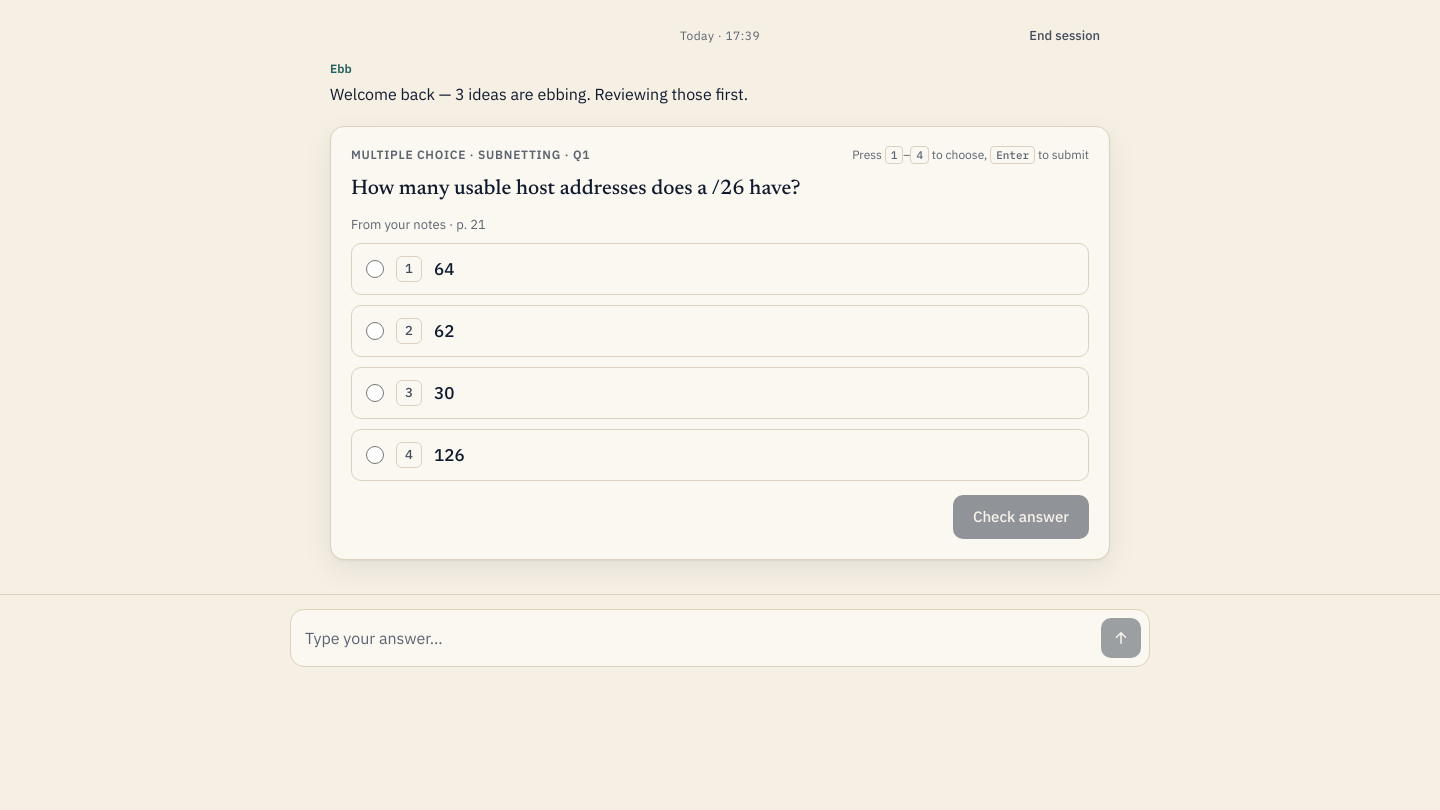
Test case: Thread › keeps an MCQ answer locked in its card, and Retry re-sends the same attempt
This screenshot has width=1440, height=810.
Type keys "2{Enter}"
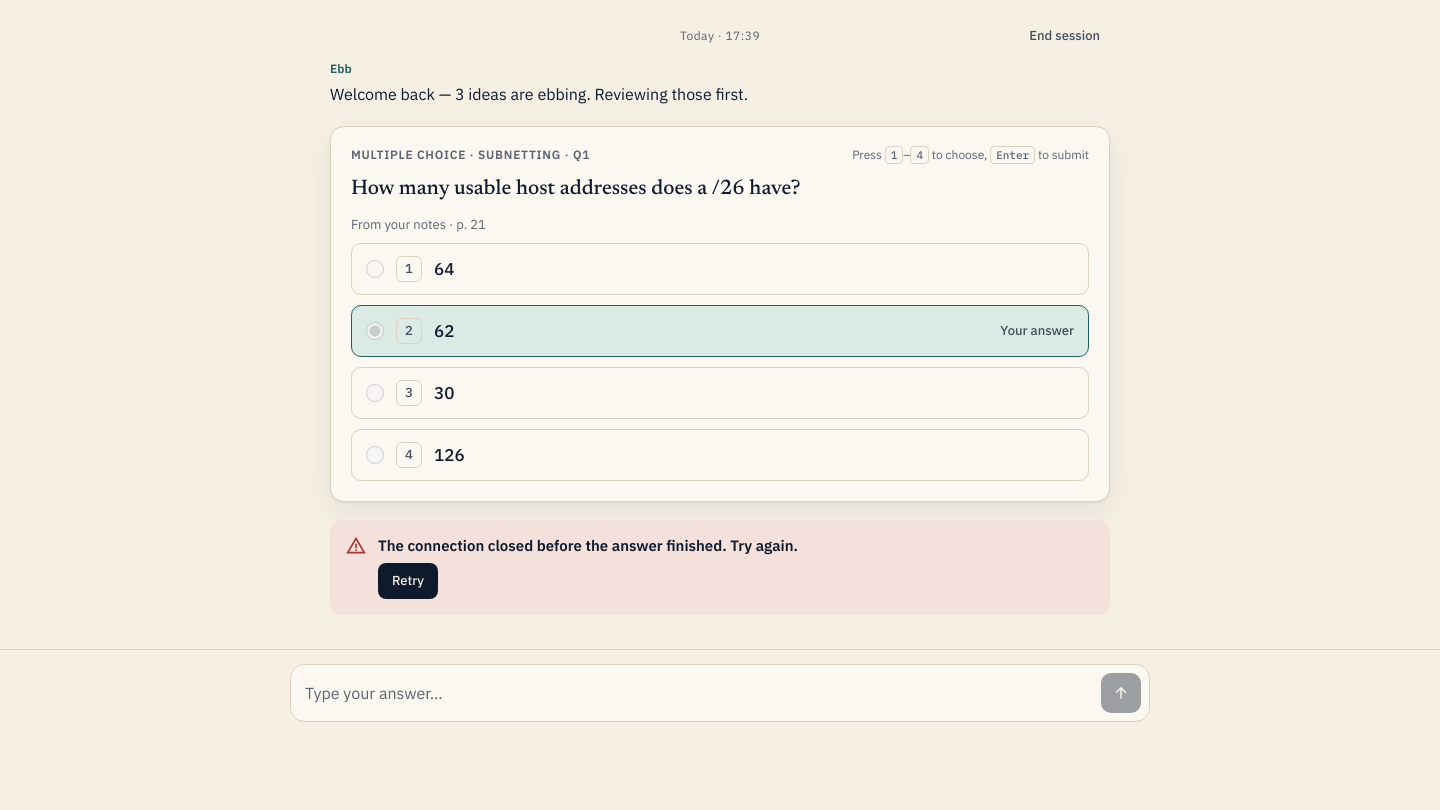
Expected: the radio button with aria-label "62, your answer" is checked, [366,322,384,340]
Expected: the radio button with aria-label "62, your answer" is disabled, [366,322,384,340]
Expected: the message shows "The connection closed before the answer finished. Try again.", [378,536,798,555]
Click the button "Retry" at (408, 581), box [378,563,438,599]
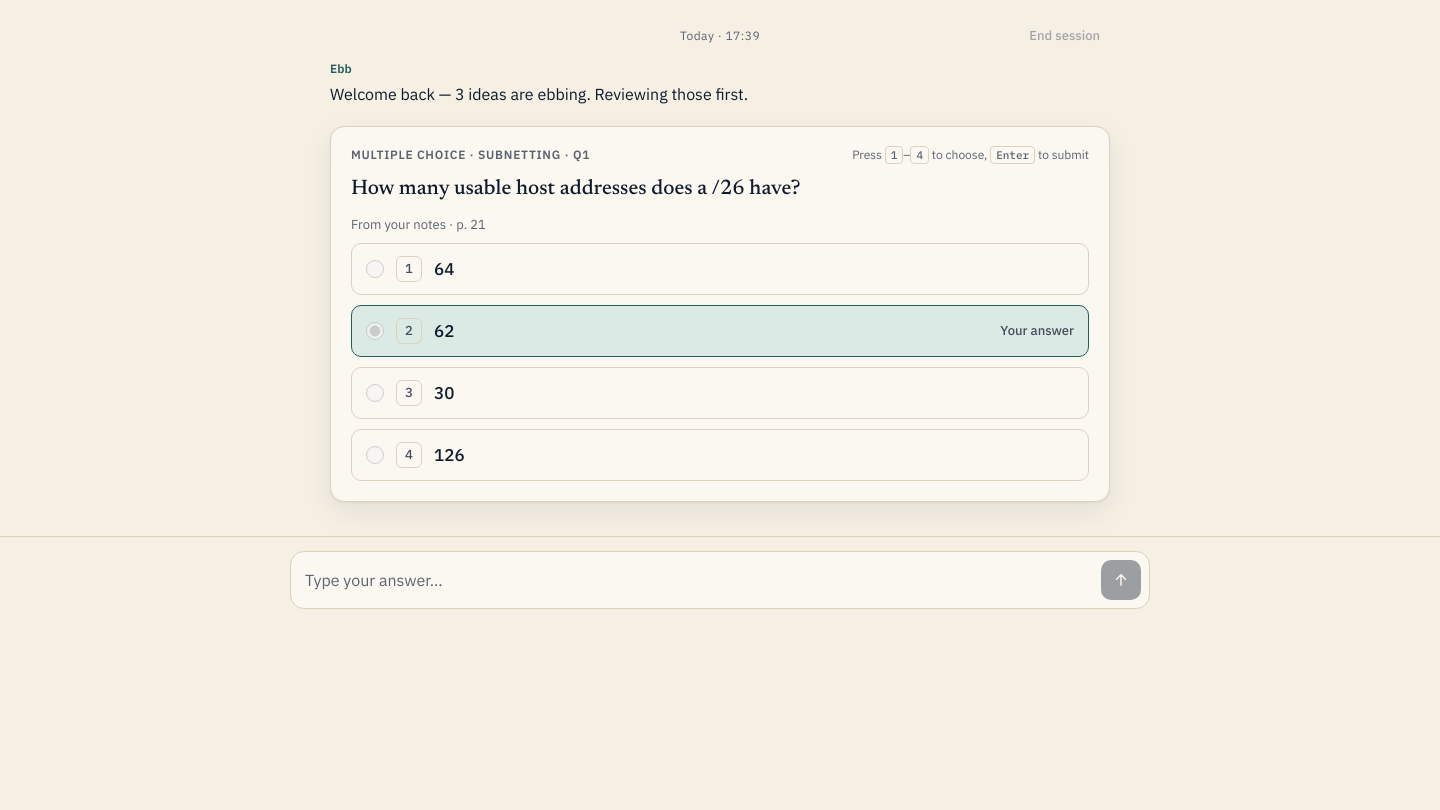
Expected: the message "The connection closed before the answer finished. Try again. Retry" is gone
